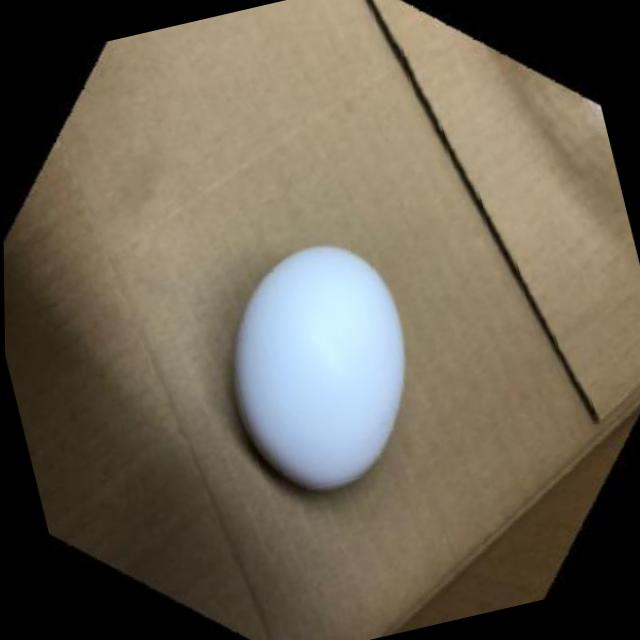egg: (198, 222, 441, 514)
